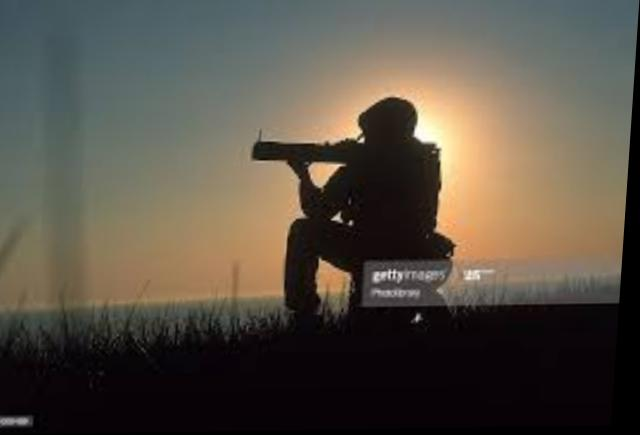other: (285, 96, 453, 314)
